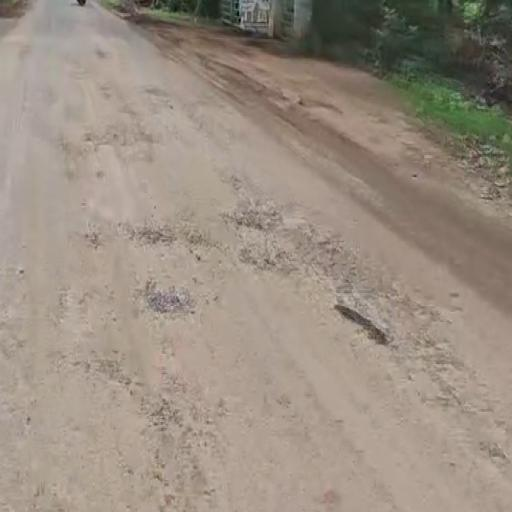ravelling: (106, 170, 395, 360)
